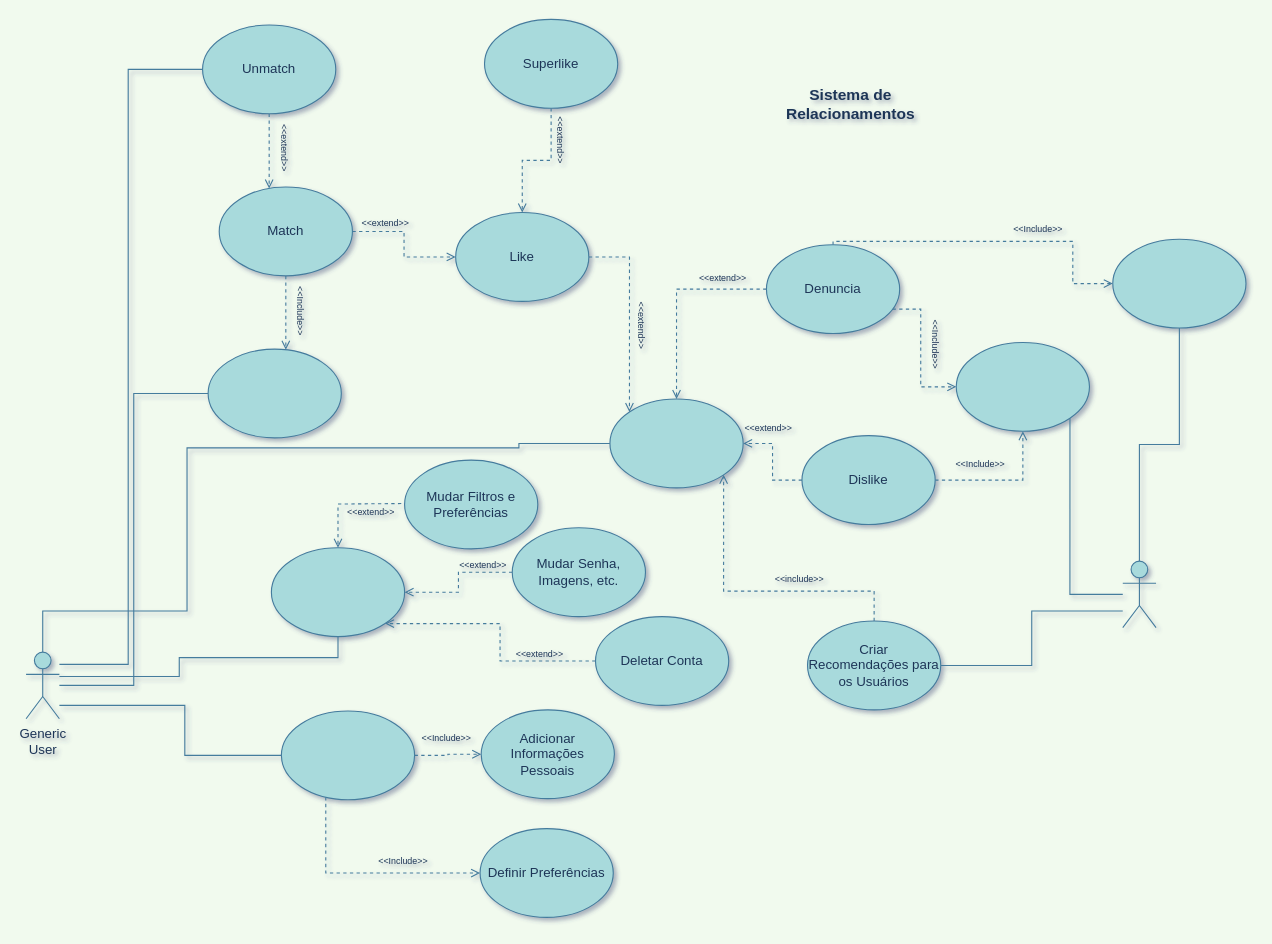
This 1272x944 diagram has some shape labels left out. Here are the shapes that lost their labels. From the top down, the centre of each, then its label:
At (1179,283): "Verify Account".
At (274,393): "Chat".
At (1022,386): "Blacklist".
At (676,443): "Receber Recomendações".
At (337,592): "Configurar Conta".
At (1139,594): "System".
At (347,755): "Criar Conta".
